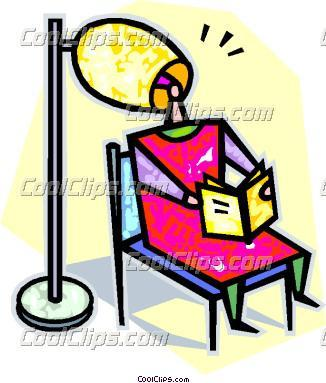person: (124, 72, 318, 348)
